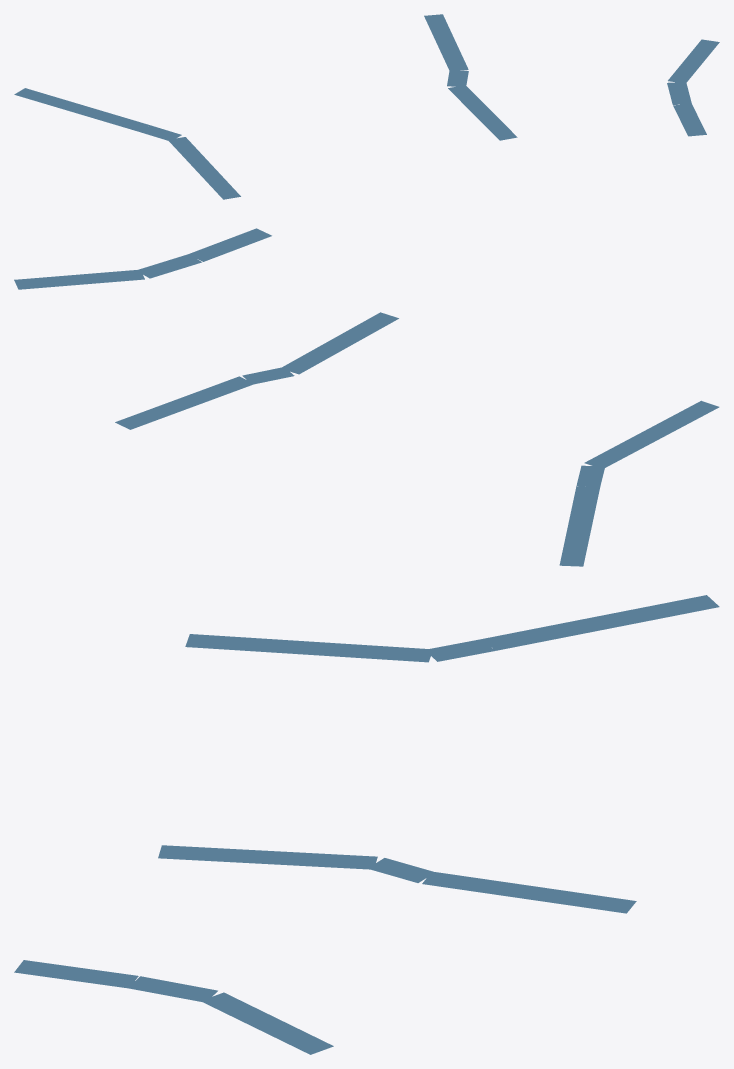
Rendered from c_1648_17832_water.glb.
3 views of the same model, one above another, from view 1: azimuth 30°, elevation 25°; view 2: azimuth 150°, elevation 25°; view 3: azimuth 270°, elevation 25° (orthographic). The views are drawn at different scales.
Visible parts, largest first — view 1: geometry_0; view 2: geometry_0; view 3: geometry_0.
Boxes of the visible parts, <box> form: geometry_0: <box>14,14,719,199</box>; geometry_0: <box>14,228,719,566</box>; geometry_0: <box>14,595,719,1054</box>.
Bounding box in the file's own units: 86.88 × 0 × 56.36.
